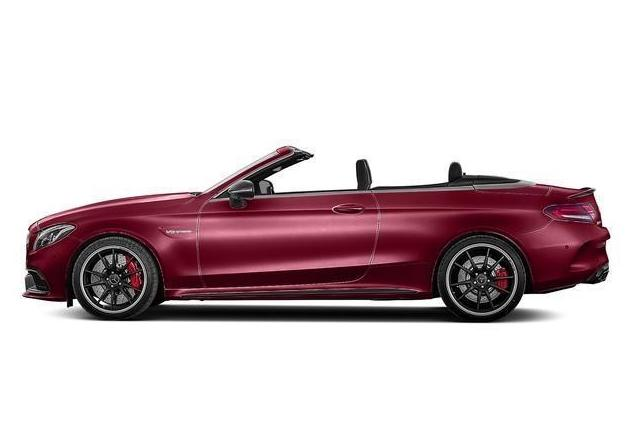C63AMG: (18, 140, 616, 330)
